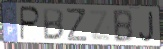B: (112, 8, 135, 44), (42, 7, 65, 42)
J: (138, 11, 156, 43)
P: (20, 6, 42, 42)
Z: (65, 7, 88, 43), (88, 9, 112, 42)
